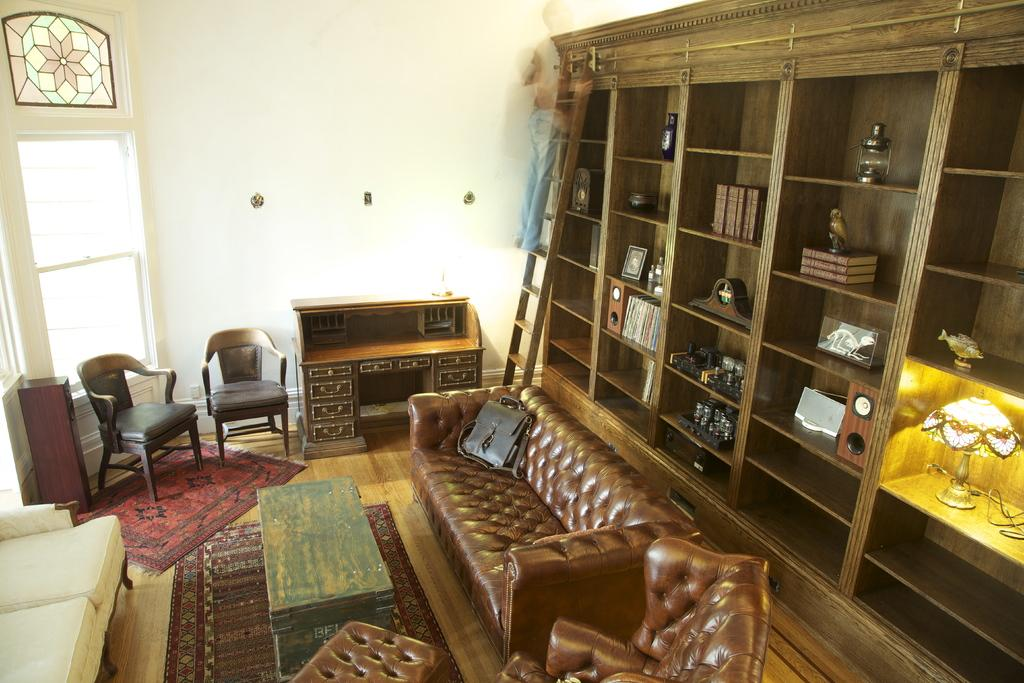Chair: (485, 539, 771, 682), (74, 352, 203, 502), (182, 327, 288, 475)
